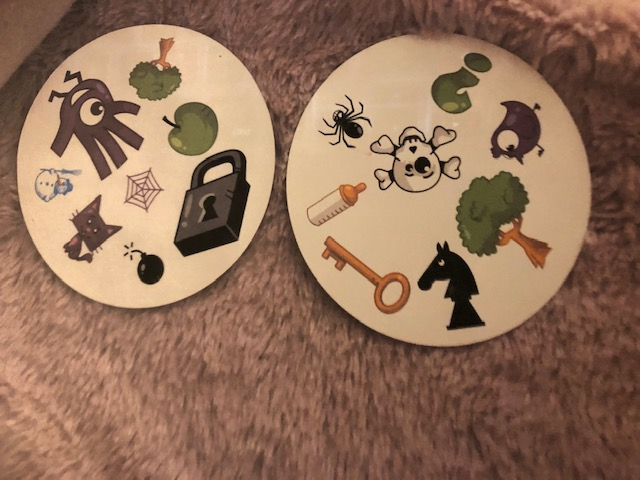araignee: (314, 89, 379, 153)
arbre: (450, 167, 557, 270), (126, 32, 186, 105)
biberon: (304, 177, 367, 229)
bombe: (119, 237, 168, 286)
bonhomme_neige: (32, 167, 85, 204)
cadenas: (171, 142, 249, 257)
chat: (60, 194, 123, 263)
cheval: (412, 239, 490, 331)
cle: (314, 229, 414, 316)
dooble: (36, 65, 149, 177)
oiseau: (484, 93, 549, 171)
point_interrogation: (426, 50, 493, 115)
pomme: (161, 98, 224, 157)
tete_mort: (361, 115, 468, 198)
toile: (119, 160, 164, 215)
